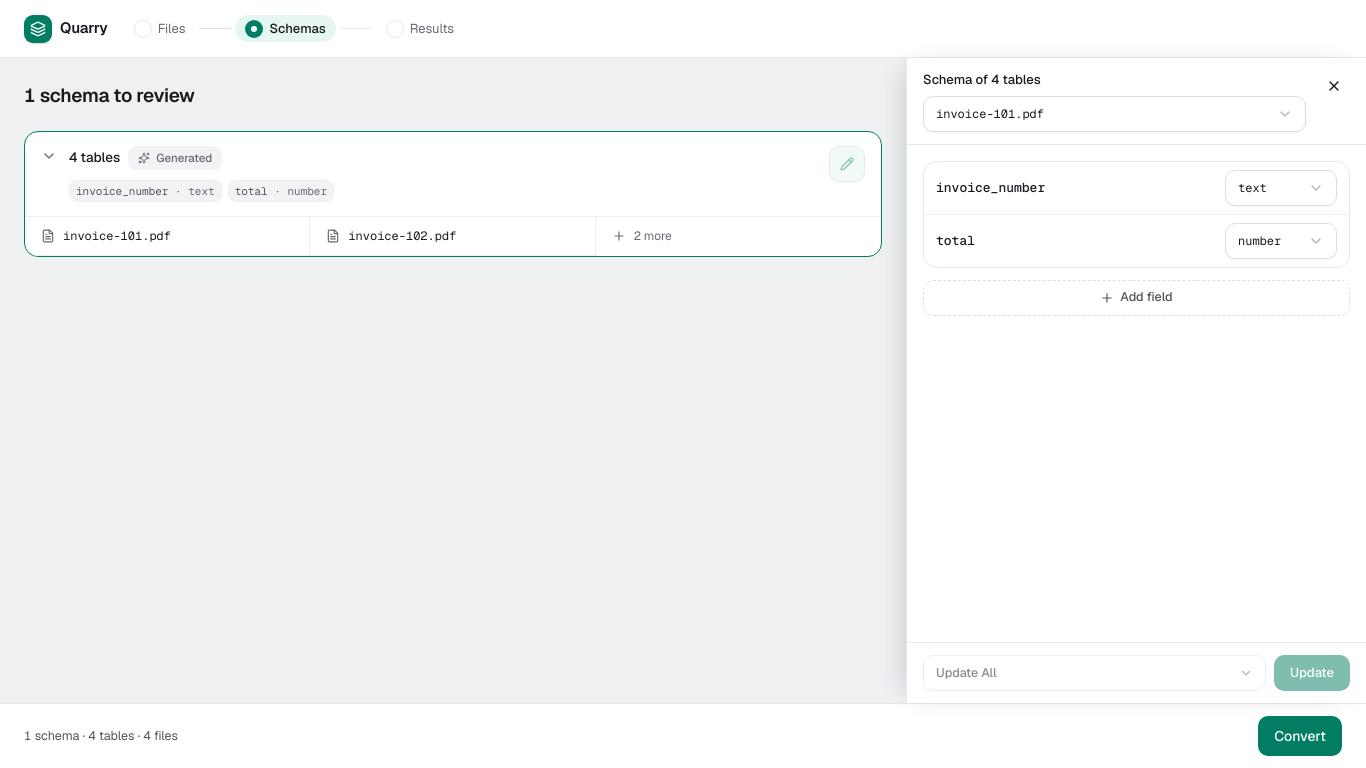
it: Review schemas › opens the rest of the files from the count that stood for them
Expected: the heading "1 schema to review" is shown, [24, 83, 195, 108]
Expected: the text "invoice-103.pdf" is not shown
Click the button "2 more". click: (656, 236)
box: [596, 217, 881, 255]
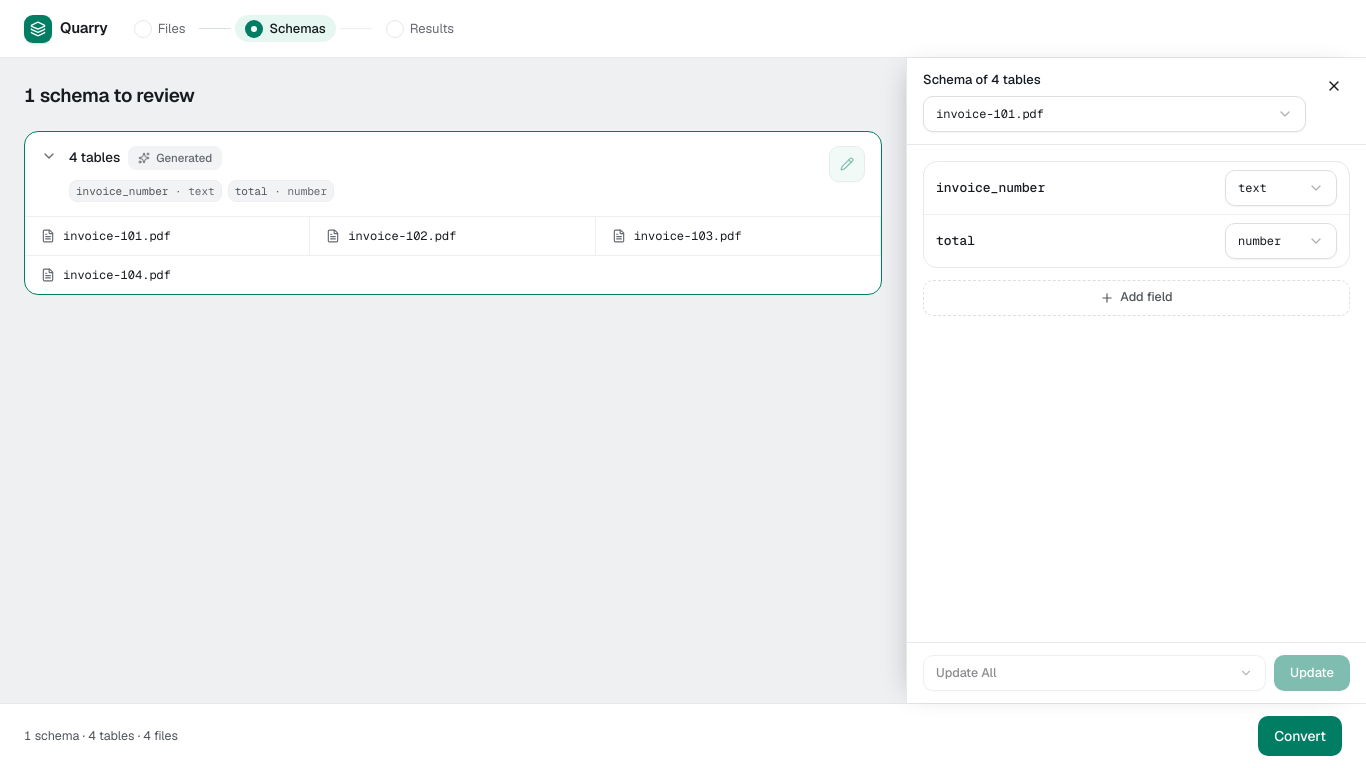
Expected: the text "invoice-103.pdf" is shown, [634, 227, 742, 245]
Expected: the text "invoice-104.pdf" is shown, [63, 266, 171, 284]
Expected: the button "2 more" is gone
